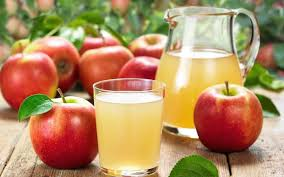apple: (195, 81, 266, 151), (29, 100, 102, 168), (2, 54, 57, 111), (27, 33, 79, 92), (78, 48, 136, 100), (118, 53, 165, 86), (127, 32, 171, 58)
